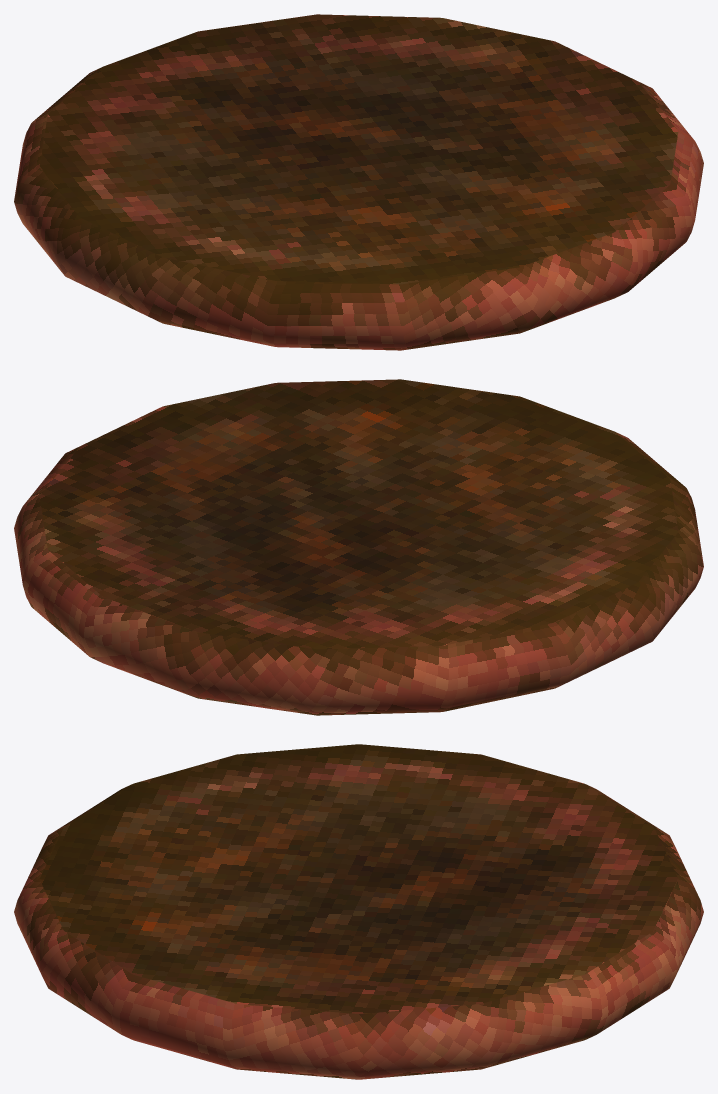
Rendered from Patty-meat.glb.
3 views of the same model, one above another, from view 1: azimuth 30°, elevation 25°; view 2: azimuth 150°, elevation 25°; view 3: azimuth 270°, elevation 25° (orthographic).
Visible parts, largest first — view 1: Patty-meat; view 2: Patty-meat; view 3: Patty-meat.
Boxes of the visible parts, bbox=[...] form: Patty-meat: bbox=[14, 14, 703, 350]; Patty-meat: bbox=[14, 379, 703, 715]; Patty-meat: bbox=[14, 744, 703, 1079].
Size of the model in its own units: 2.23 by 0.2336 by 2.23.
Materials: 1 (1 with a texture image).
